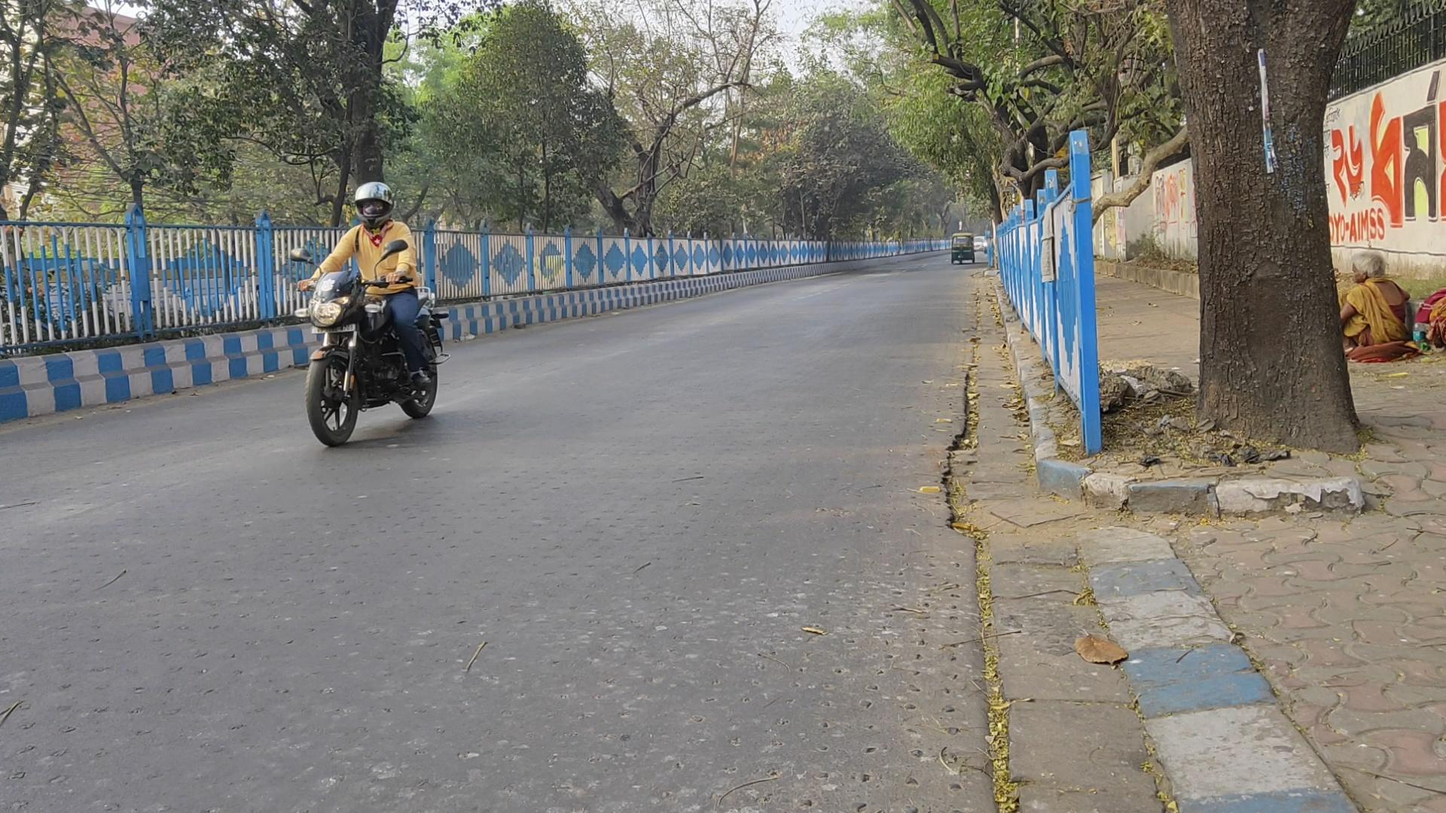Auto: (949, 230, 977, 265)
bike: (289, 177, 448, 448)
